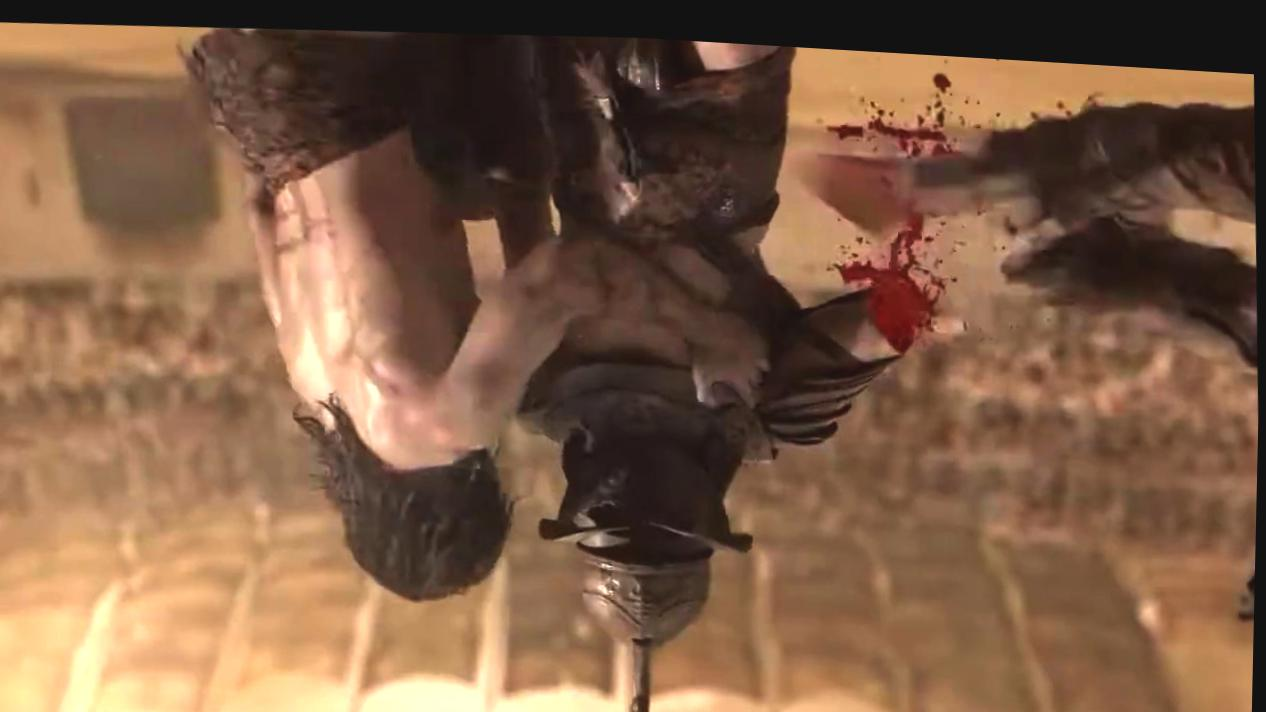Fire: (839, 202, 947, 343), (828, 60, 958, 147)
